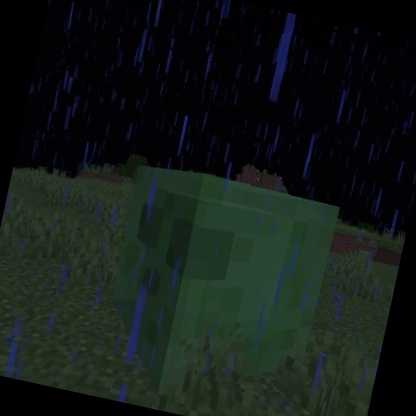slime: (86, 154, 348, 416)
